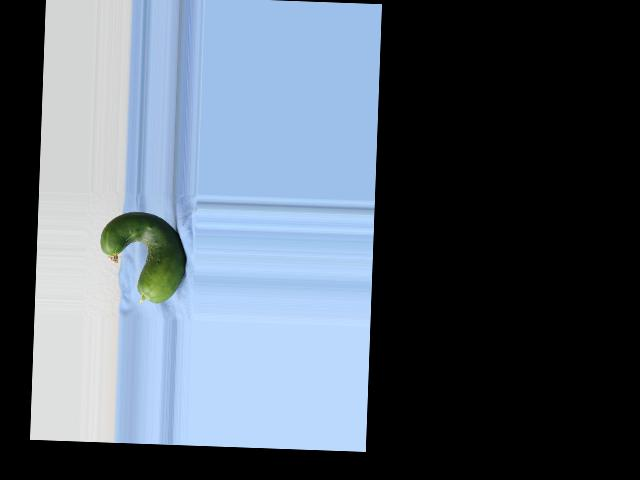cucumber: (98, 210, 187, 304)
